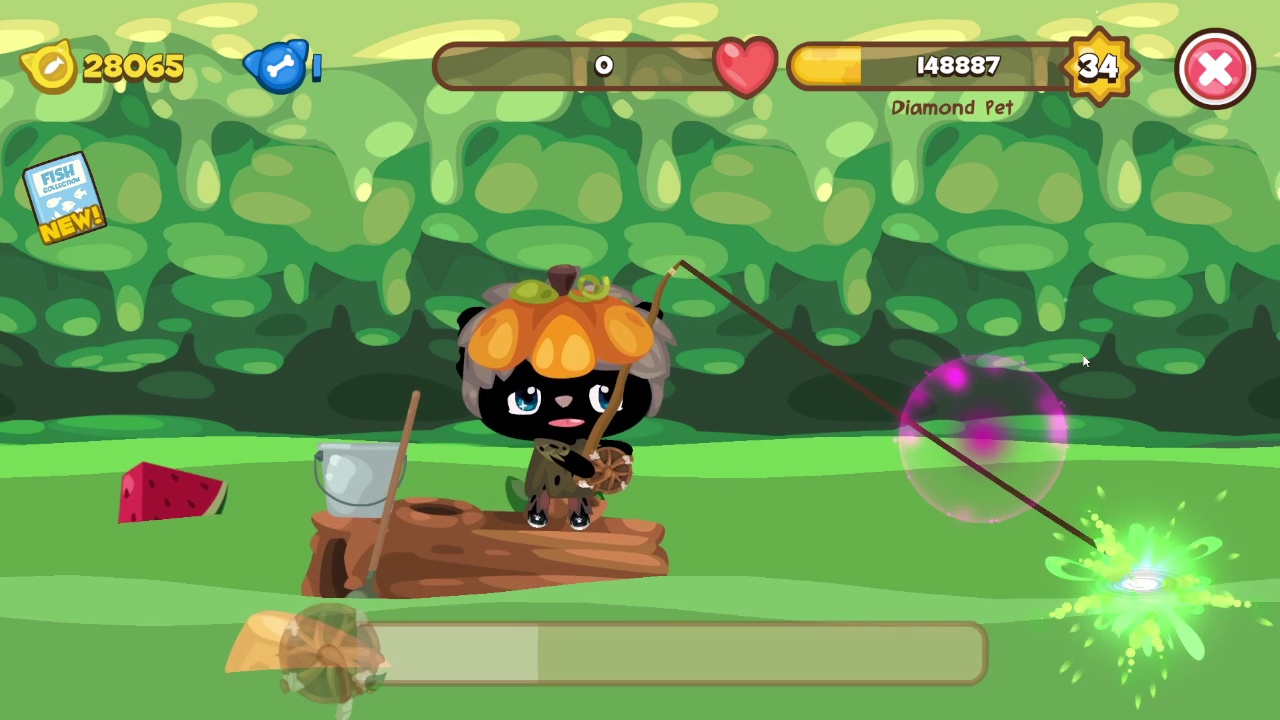point: (897, 355, 1069, 524)
